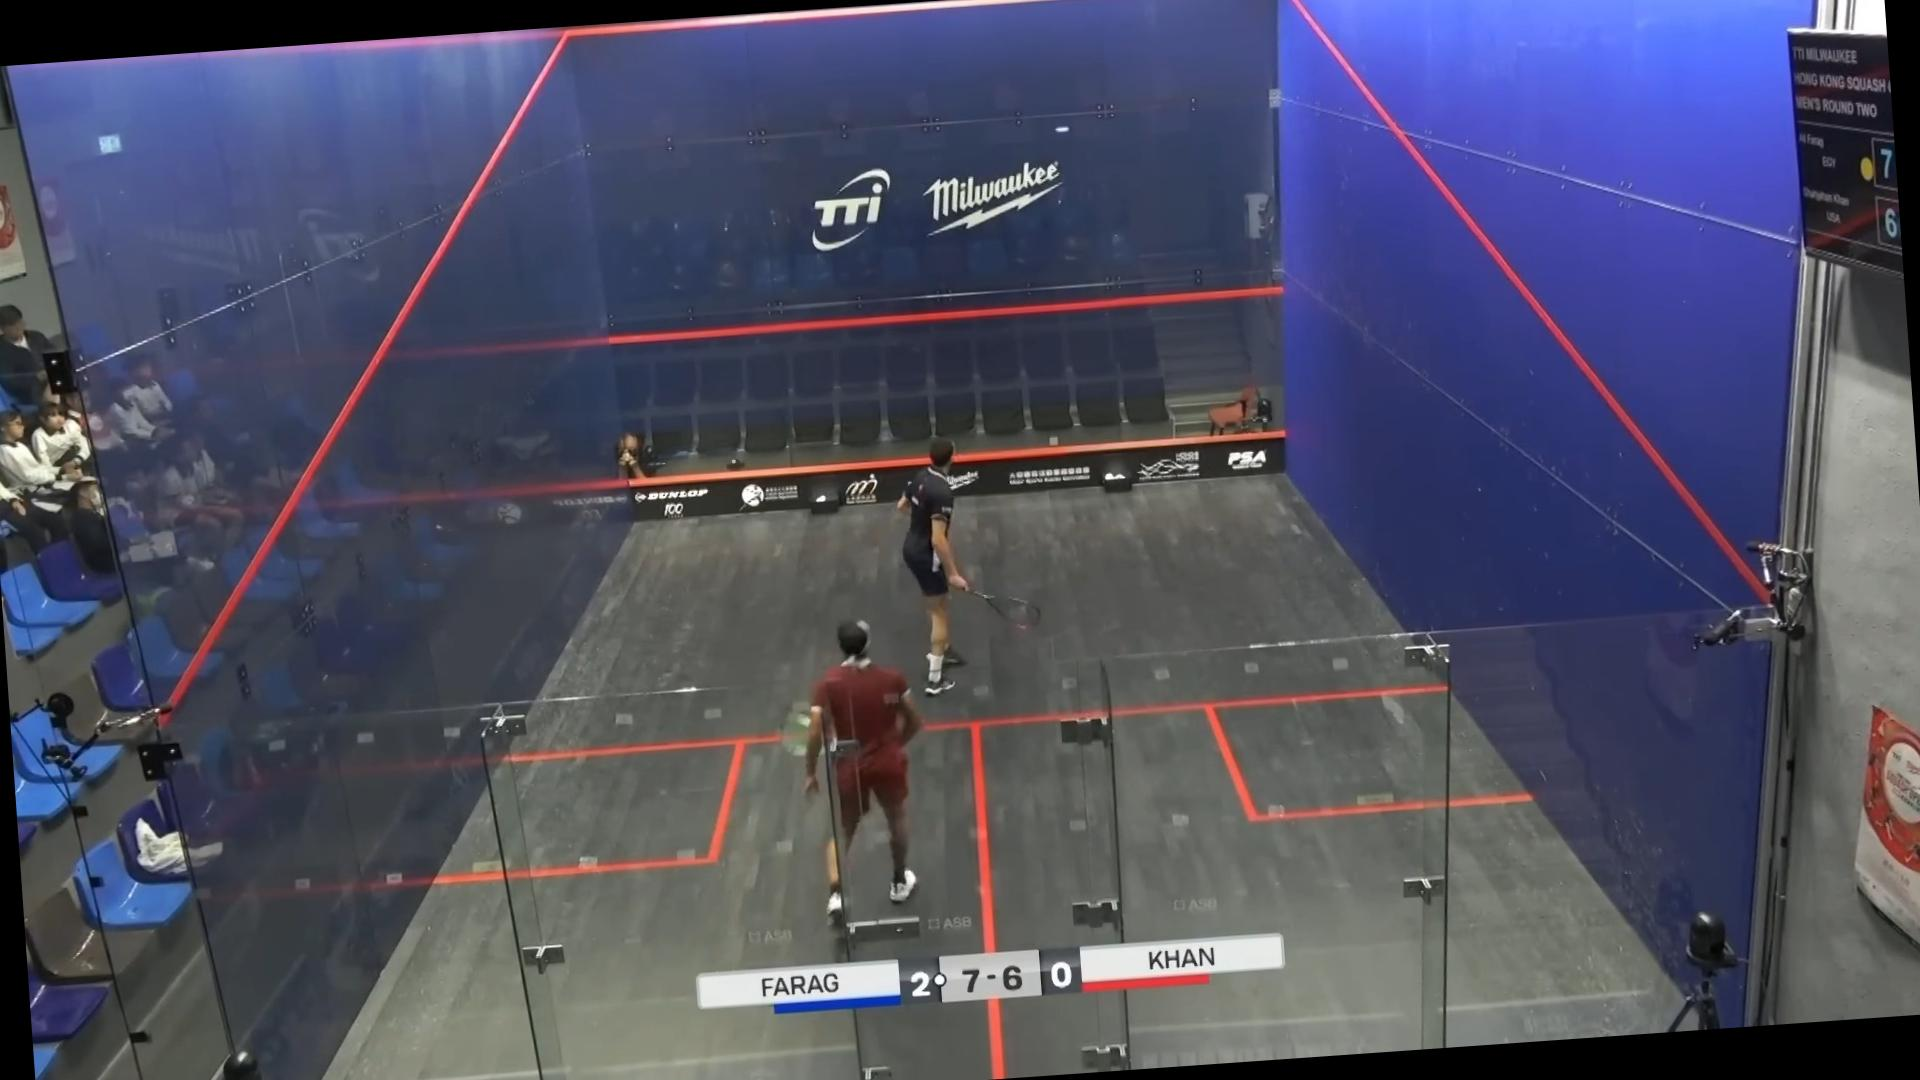Racket: (964, 583, 1046, 641)
